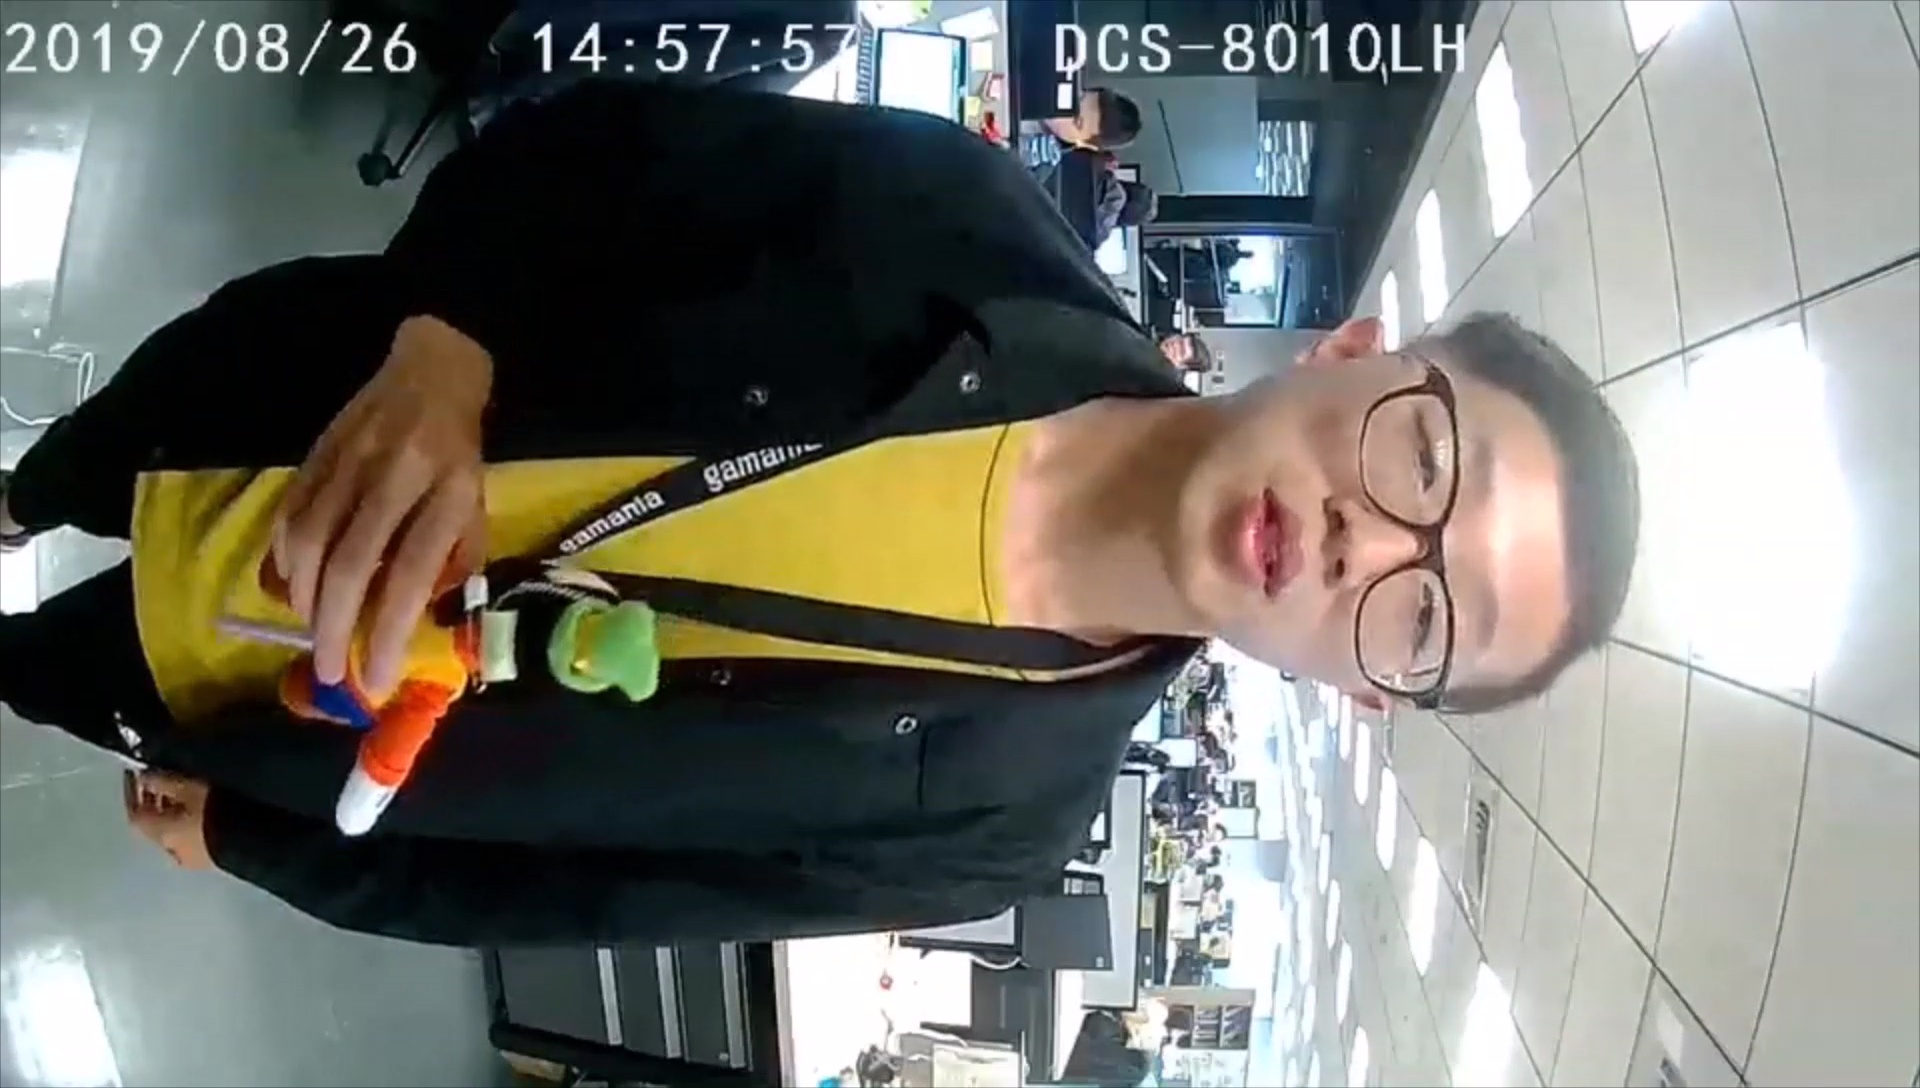goofy: (265, 543, 662, 841)
